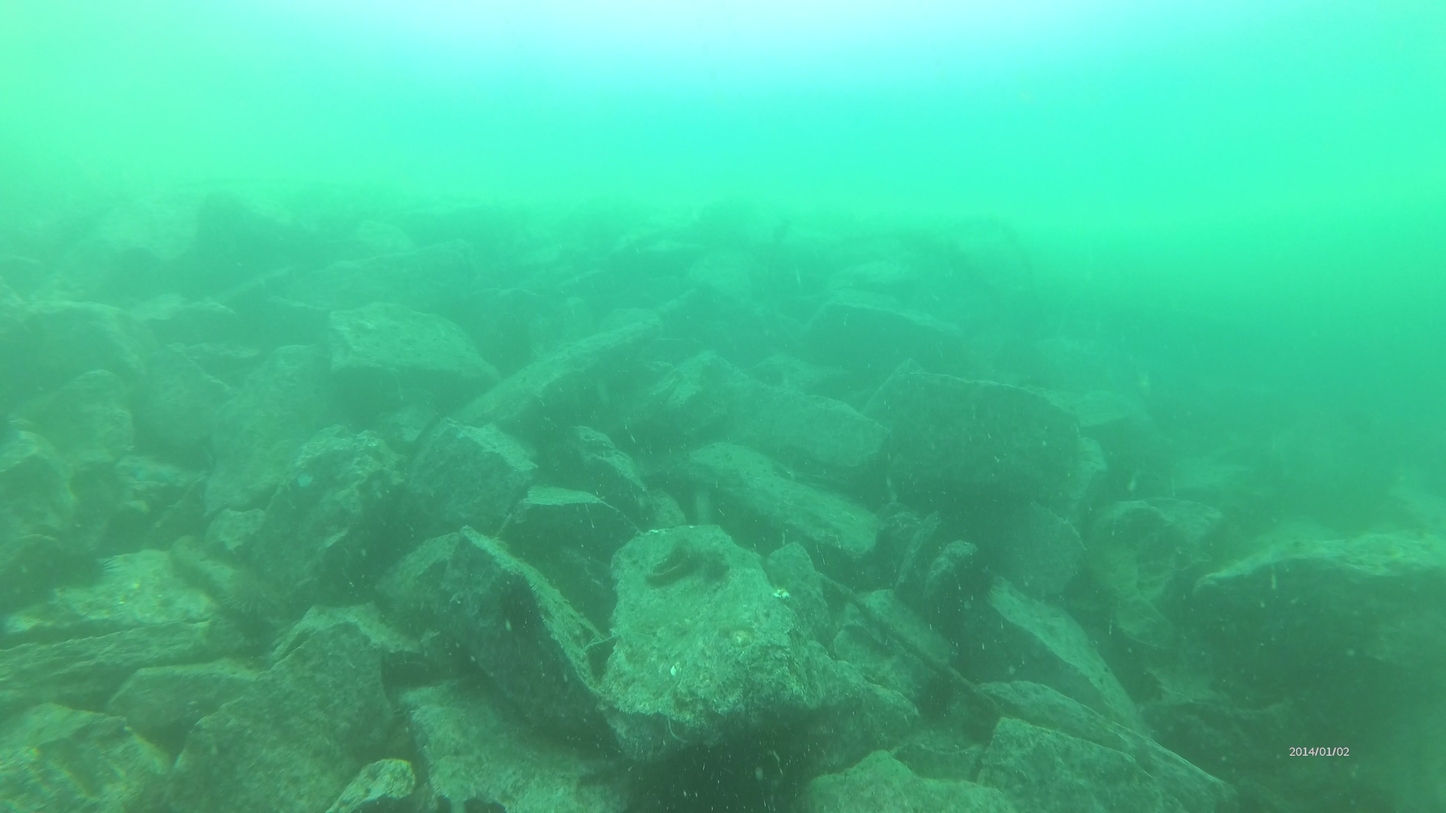starfish: (491, 595, 546, 638)
